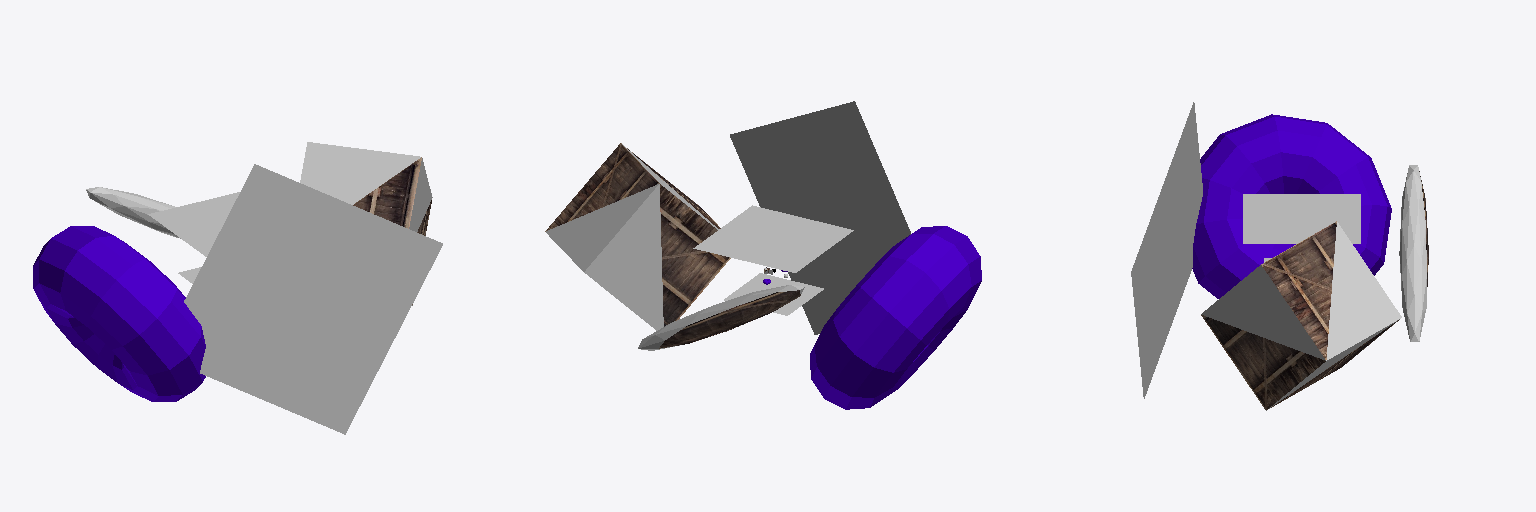
3 renders of one model, left to right at view 1: azimuth 30°, elevation 25°; view 2: azimuth 150°, elevation 25°; view 3: azimuth 270°, elevation 25°, orthographic.
Parts seen in each view (by area): view 1: Triangulated_Quad.003, Torus.002, Triangulated_Cube.001, Triangulated_Quad.002, Icosphere.001; view 2: Triangulated_Quad.003, Torus.002, Triangulated_Cube.001, Triangulated_Quad.002, Icosphere.001, Triangulated_Quad; view 3: Triangulated_Cube.001, Torus.002, Triangulated_Quad.003, Triangulated_Quad.002, Icosphere.001.
Boxes of the visible parts, box(x1,y1,x2,y2) form: Triangulated_Quad.003: box(184, 164, 442, 434); Torus.002: box(33, 226, 205, 401); Triangulated_Cube.001: box(300, 142, 432, 305); Triangulated_Quad.002: box(148, 192, 239, 256); Icosphere.001: box(86, 187, 180, 238); Triangulated_Quad.003: box(730, 101, 910, 334); Torus.002: box(810, 226, 981, 409); Triangulated_Cube.001: box(545, 143, 730, 330); Triangulated_Quad.002: box(693, 205, 853, 272); Icosphere.001: box(638, 285, 804, 350); Triangulated_Quad: box(724, 273, 823, 315); Triangulated_Cube.001: box(1201, 221, 1401, 410); Torus.002: box(1192, 114, 1391, 298); Triangulated_Quad.003: box(1131, 102, 1202, 398); Triangulated_Quad.002: box(1243, 194, 1360, 243); Icosphere.001: box(1399, 165, 1428, 341).
Bounding box in the file's own units: 190 × 122 × 123.
Materials: 5 (2 with a texture image).